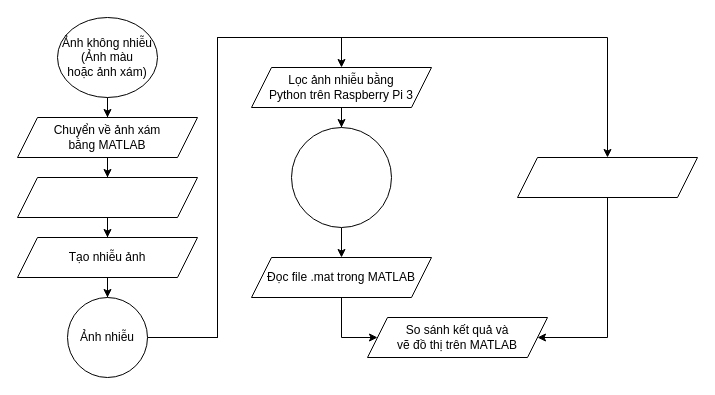
Some shapes in this 715 by 395 pixel diagram are drawn without their labels. Each missing label, with the box of its shape:
Crop ảnh về kích thước không quà 256x256: (16, 176, 198, 218)
File .mat chứa các giá trị điểm ảnh đã xử lý: (290, 126, 392, 228)
Lọc ảnh nhiễu bằng MATLAB: (516, 156, 698, 198)
